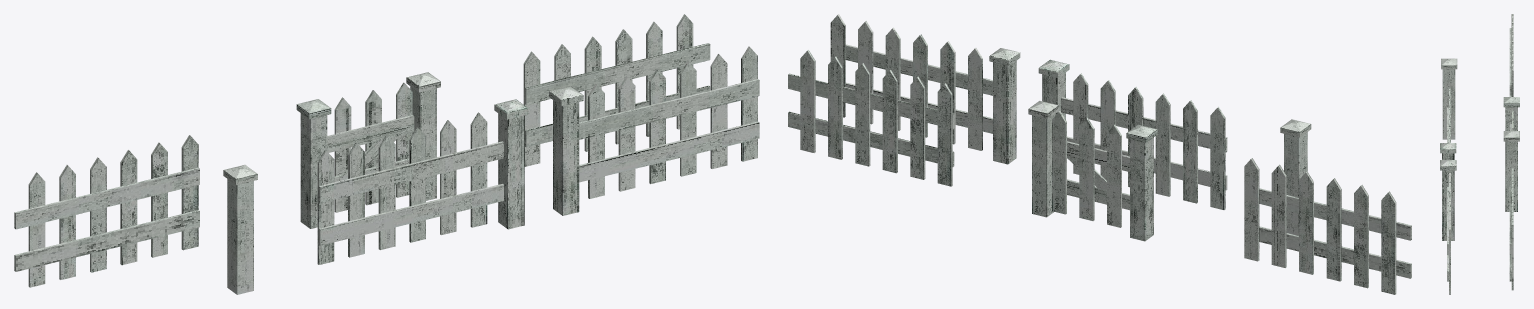
Rendered from white_picket_fence.glb.
3 views of the same model, side by side, from view 1: azimuth 30°, elevation 25°; view 2: azimuth 150°, elevation 25°; view 3: azimuth 270°, elevation 25° (orthographic). The views are drawn at different scales.
Parts seen in each view (by area): view 1: white_picket_fence_closed_left, white_picket_fence_closed_right, white_picket_fence_open_right, white_picket_fence_open_left, white_picket_fence_gate, white_picket_fence_gate_poles, white_picket_fence_pole; view 2: white_picket_fence_open_left, white_picket_fence_open_right, white_picket_fence_closed_right, white_picket_fence_closed_left, white_picket_fence_gate, white_picket_fence_gate_poles, white_picket_fence_pole; view 3: white_picket_fence_gate_poles, white_picket_fence_closed_right, white_picket_fence_pole, white_picket_fence_open_left, white_picket_fence_closed_left, white_picket_fence_open_right.
Part boxes in pixels (x1,y1,x2,y2): white_picket_fence_closed_left: (317, 99, 528, 264); white_picket_fence_closed_right: (549, 46, 759, 215); white_picket_fence_open_right: (14, 135, 199, 287); white_picket_fence_open_left: (523, 14, 710, 166); white_picket_fence_gate: (327, 82, 414, 212); white_picket_fence_gate_poles: (296, 72, 440, 228); white_picket_fence_pole: (223, 165, 257, 294); white_picket_fence_open_left: (788, 50, 954, 186); white_picket_fence_open_right: (1244, 158, 1411, 294); white_picket_fence_closed_right: (830, 14, 1020, 164); white_picket_fence_closed_left: (1038, 59, 1227, 209); white_picket_fence_gate: (1052, 111, 1129, 227); white_picket_fence_gate_poles: (1028, 101, 1157, 241); white_picket_fence_pole: (1280, 119, 1311, 235); white_picket_fence_gate_poles: (1503, 97, 1519, 211); white_picket_fence_closed_right: (1440, 160, 1456, 294); white_picket_fence_pole: (1441, 58, 1457, 139); white_picket_fence_open_left: (1509, 168, 1513, 290); white_picket_fence_closed_left: (1440, 88, 1456, 159); white_picket_fence_open_right: (1509, 14, 1513, 96).
Bounding box in the file's own units: 8.16 × 1.37 × 1.27.
Materials: 1 (1 with a texture image).
